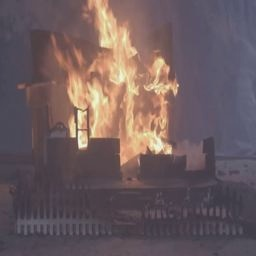fire: (46, 0, 195, 159)
